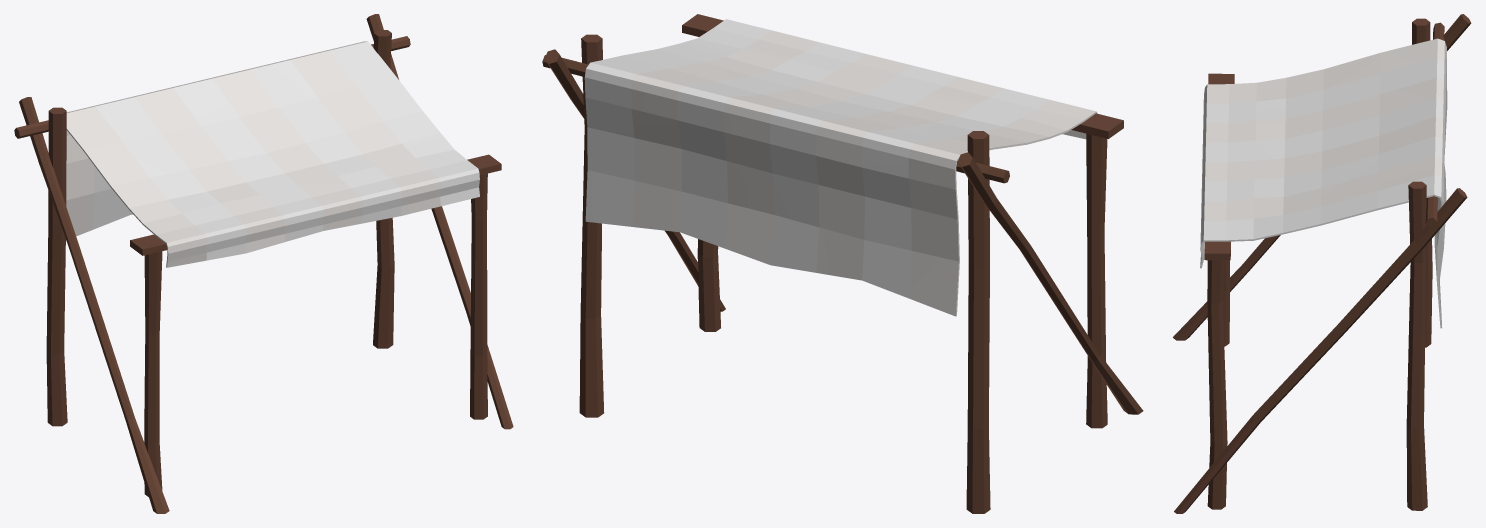
File: Stall_1.fbx
The picture shows the model from 3 angles, left to right: view 1: azimuth 30°, elevation 25°; view 2: azimuth 150°, elevation 25°; view 3: azimuth 270°, elevation 25°; orthographic projection. The views are drawn at different scales.
Parts seen in each view (by area): view 1: Stall_1; view 2: Stall_1; view 3: Stall_1.
Part boxes in pixels (box(x1,y1,x2,y2)): Stall_1: box(14, 14, 513, 513); Stall_1: box(542, 14, 1143, 513); Stall_1: box(1173, 14, 1471, 513).
Size of the model in its own units: 3.9 by 3.02 by 2.53.
